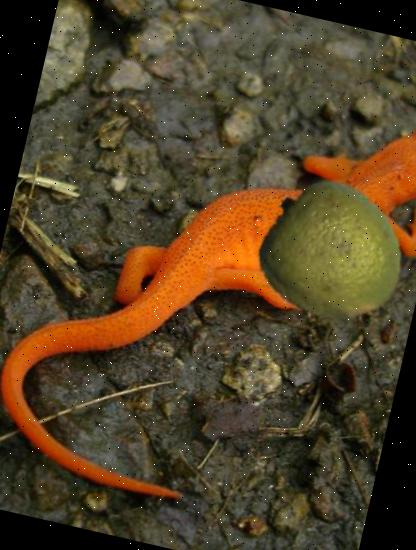Limes: (243, 168, 416, 345)
